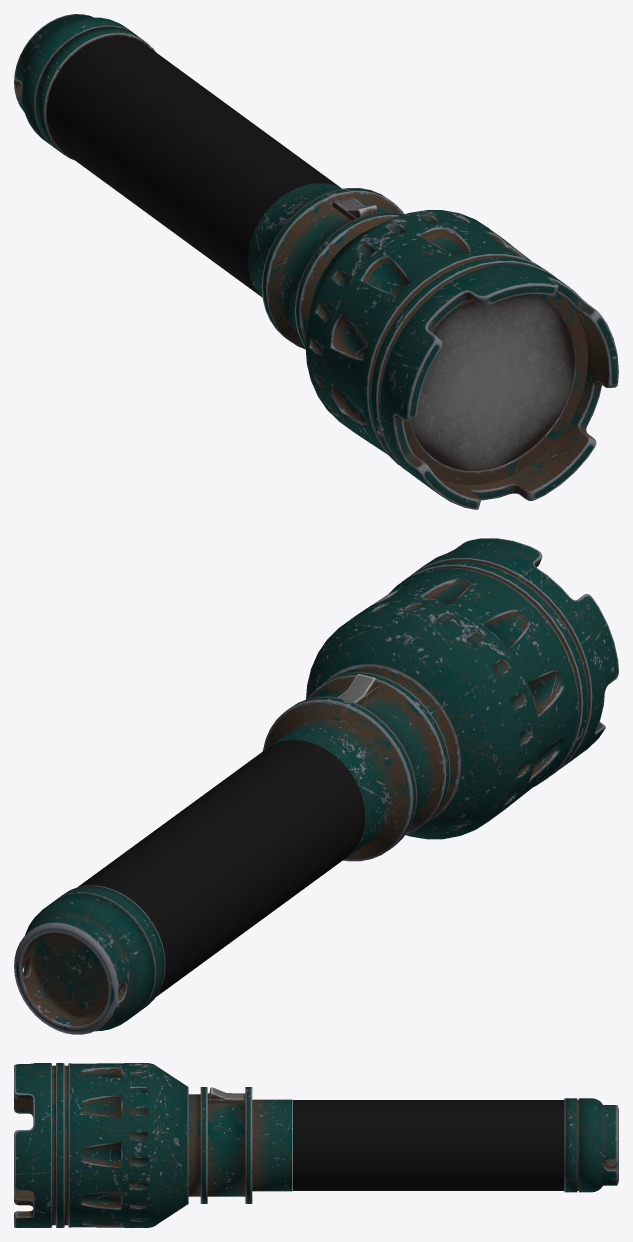
The model's file is linterna_modernamodern_flashlight.glb.
3 views of the same model, one above another, from view 1: azimuth 30°, elevation 25°; view 2: azimuth 150°, elevation 25°; view 3: azimuth 270°, elevation 25° (orthographic). The views are drawn at different scales.
Visible parts, largest first — view 1: Object_4, Object_3, Object_2; view 2: Object_4, Object_3; view 3: Object_4, Object_3.
Part boxes in pixels (x1,y1,x2,y2): Object_4: (14,14,618,509); Object_3: (46,36,340,296); Object_2: (410,294,574,470); Object_4: (14,538,618,1034); Object_3: (78,740,365,996); Object_4: (14,1063,618,1227); Object_3: (293,1100,564,1190).
Bounding box in the file's own units: 2 × 2 × 7.34.
3 materials, 3 textured.
